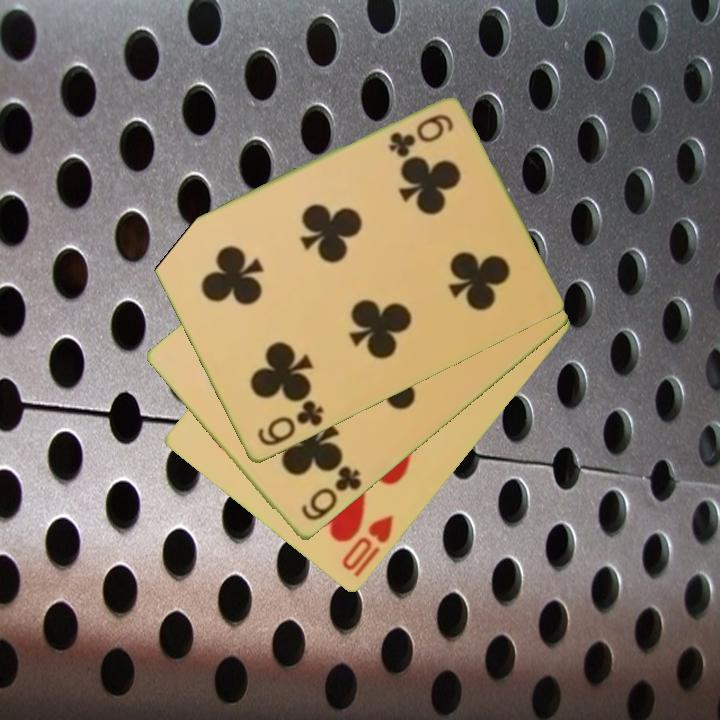10h: (338, 512, 397, 581)
6c: (297, 462, 365, 525), (253, 397, 327, 450), (385, 111, 457, 159)
